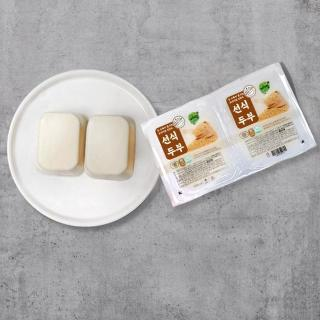Tahu: (32, 110, 138, 186)
